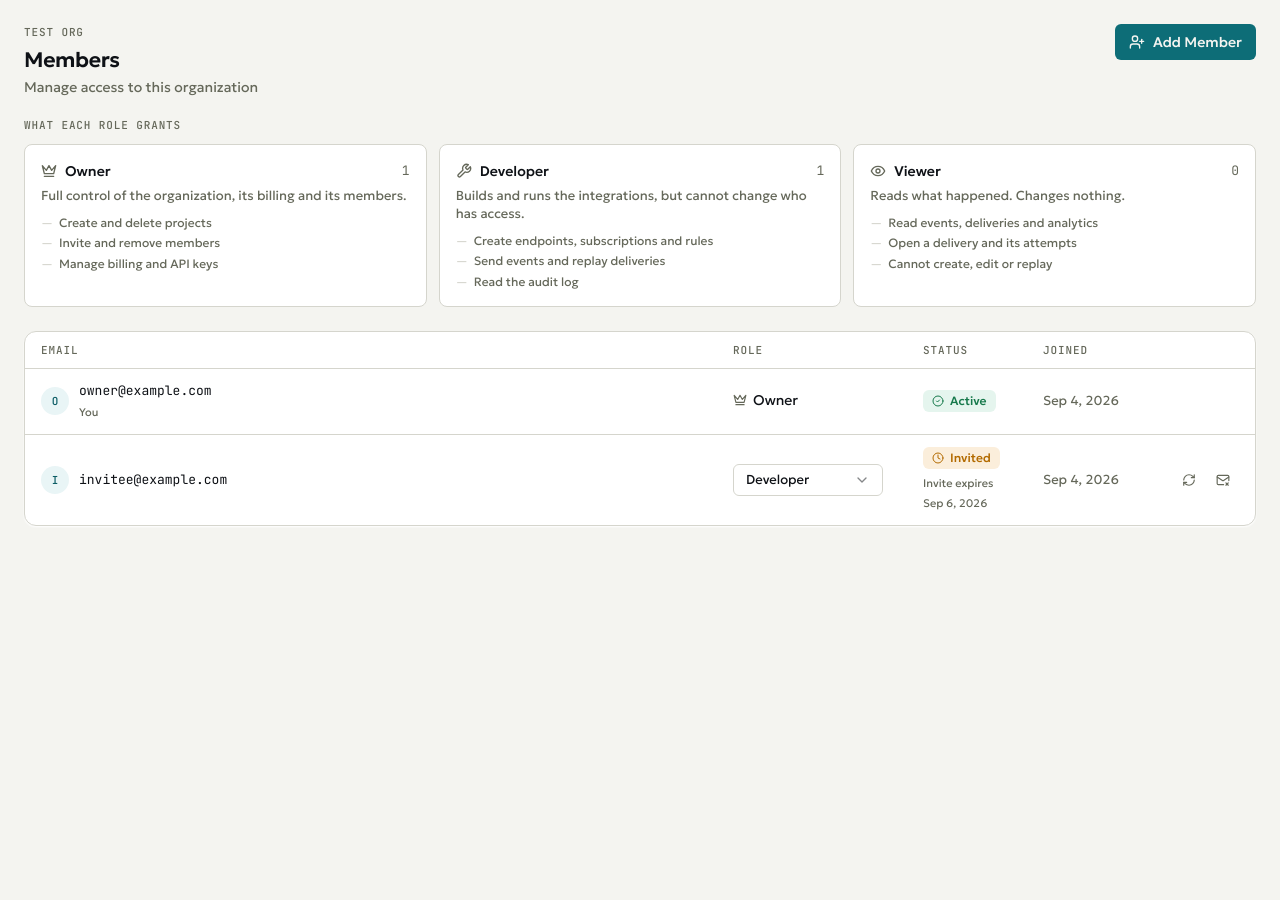
Test: MembersPage › hands the owner the invite link instead of claiming it was sent
Click the button "Add Member" at (1185, 42), box [1115,24,1256,60]
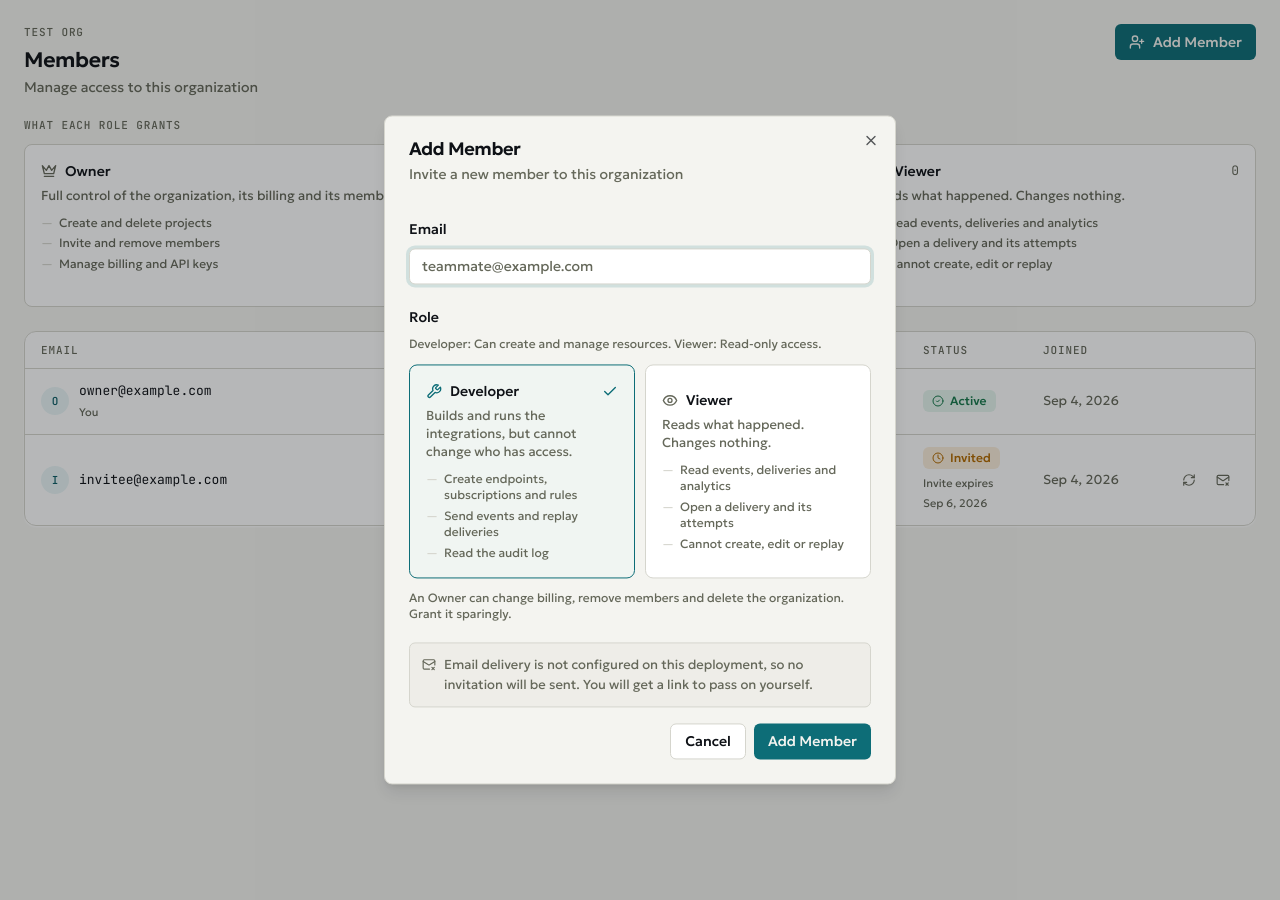
Type "fresh@example.com" into the field labelled "Email" at (640, 266), box [409,248,871,284]
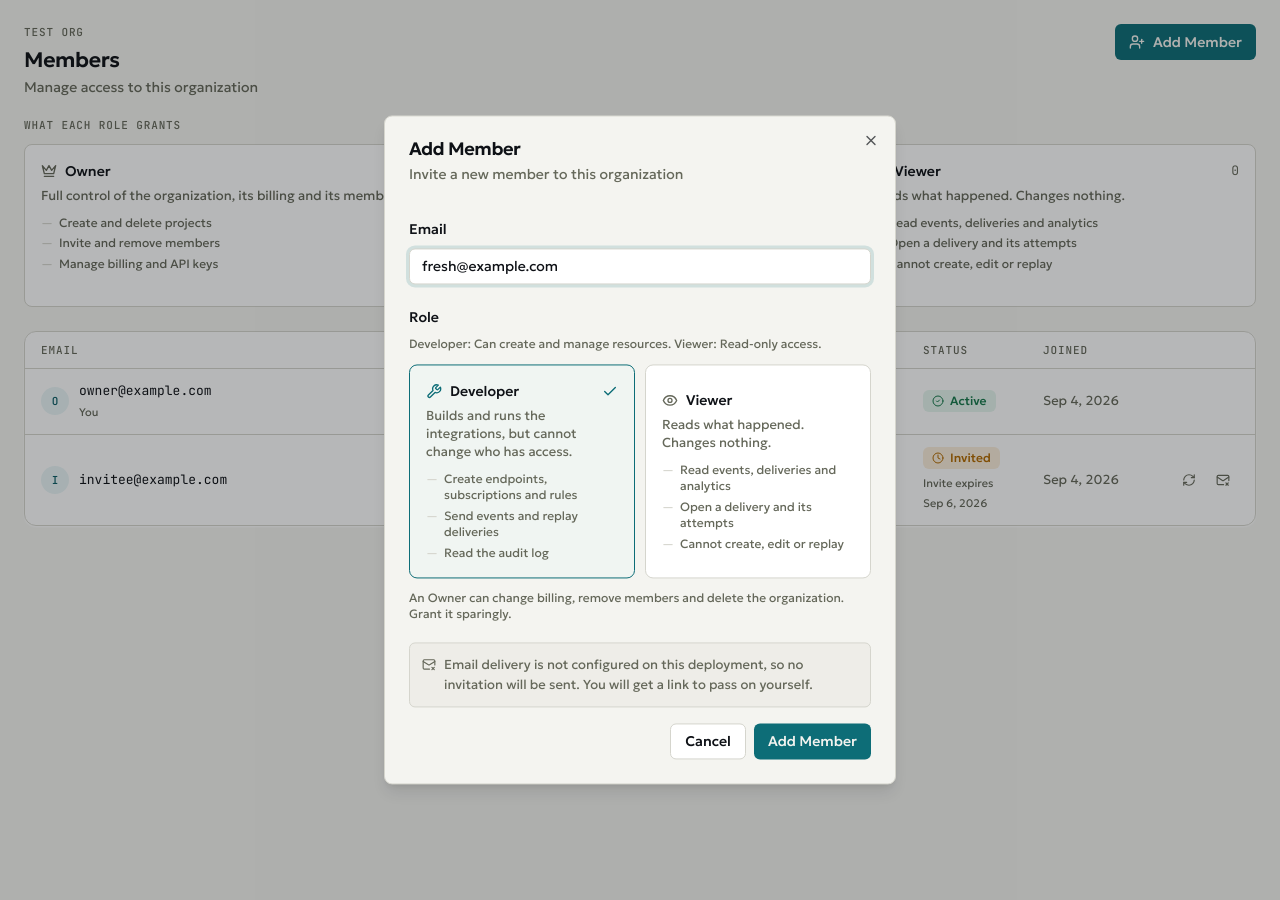
Click the button "Add Member" at (812, 742), box [754,724,871,760]
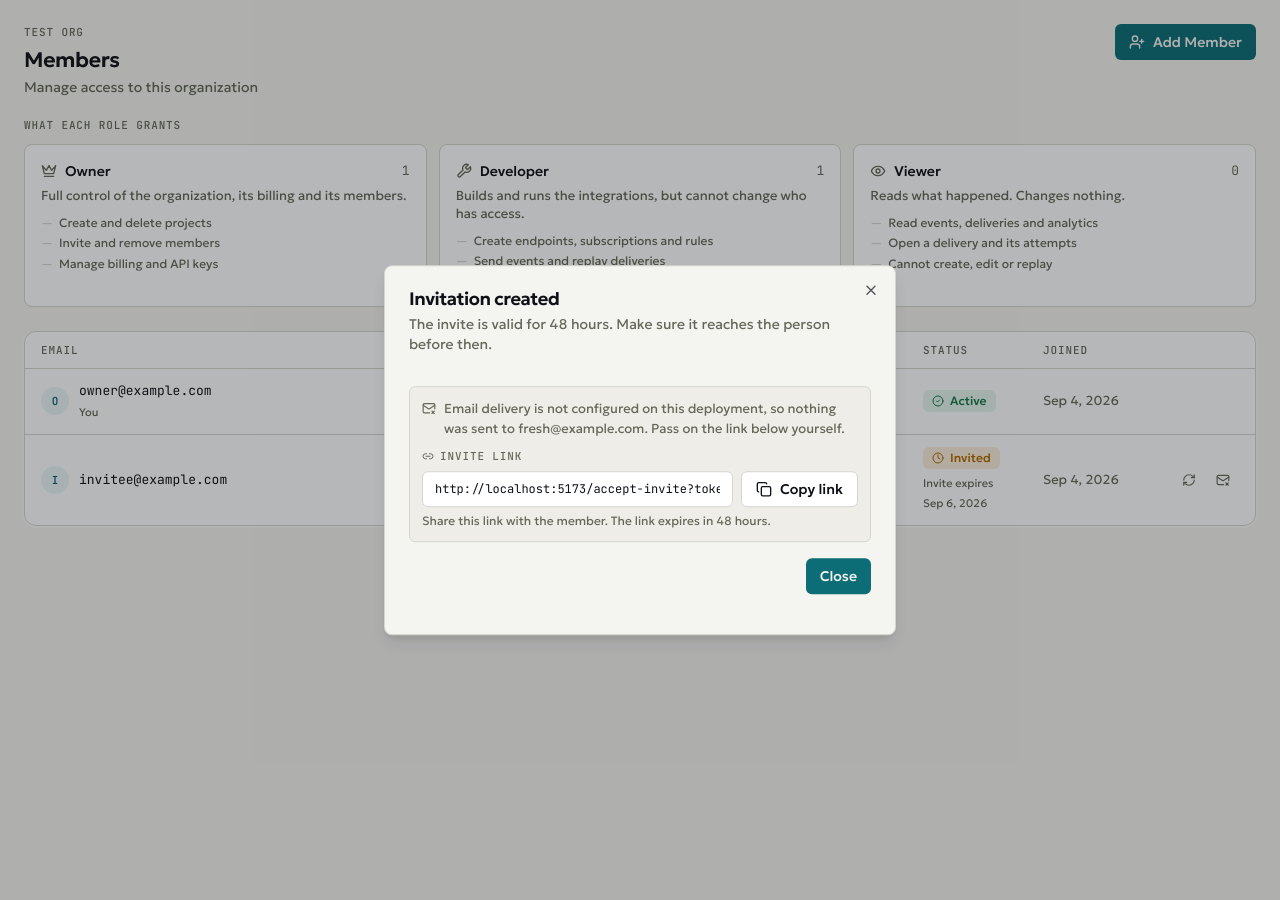
Result: the field showing "http://localhost:5173/accept-invite?token=first&orgId=org-1" is shown at [422,471,733,507]
Result: the text "nothing was sent to fresh@example.com" is shown at [444,400,845,437]
